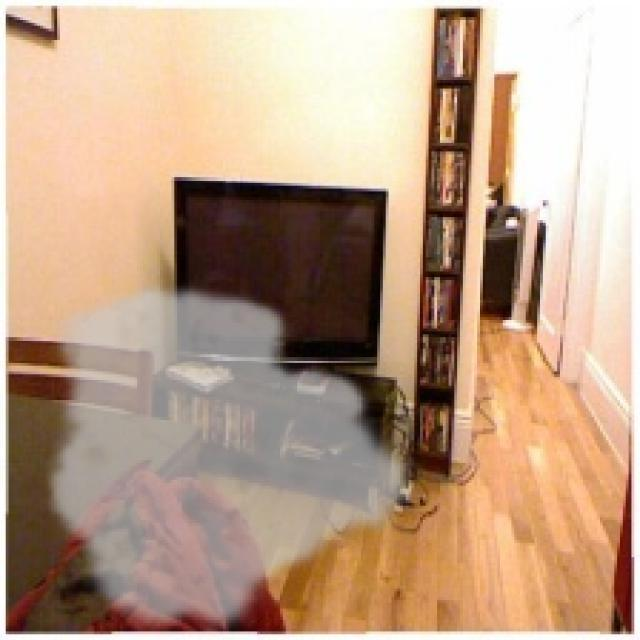Smoke: (43, 280, 426, 637)
